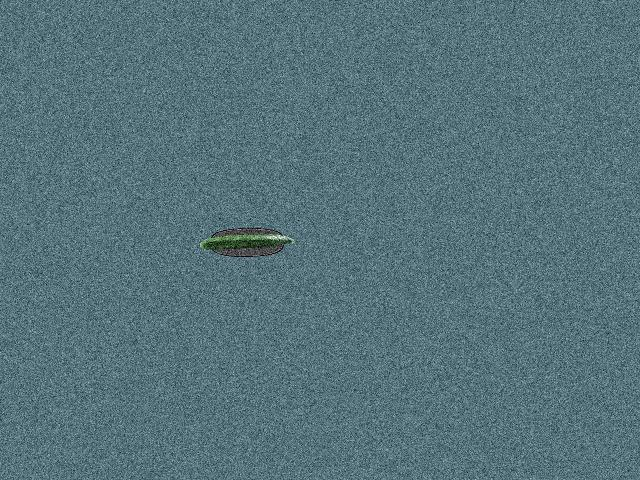cucumber: (200, 235, 295, 250)
